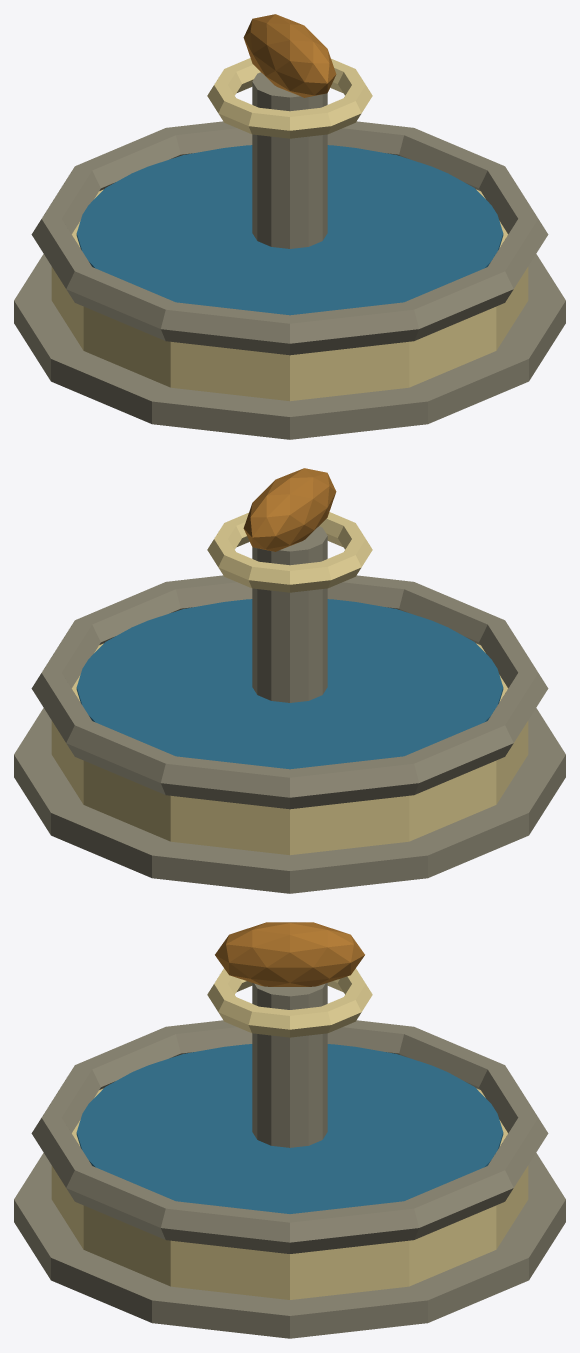
File: fountain.glb
The picture shows the model from 3 angles, top to bottom: view 1: azimuth 30°, elevation 25°; view 2: azimuth 150°, elevation 25°; view 3: azimuth 270°, elevation 25°; orthographic projection.
Visible parts, largest first — view 1: Village fountainMesh; view 2: Village fountainMesh; view 3: Village fountainMesh.
Boxes of the visible parts, left/top/right/bottom form: Village fountainMesh: left=14, top=14, right=565, bottom=439; Village fountainMesh: left=14, top=468, right=565, bottom=893; Village fountainMesh: left=14, top=922, right=565, bottom=1338.
Size of the model in its own units: 4.4 by 2.63 by 4.4.
